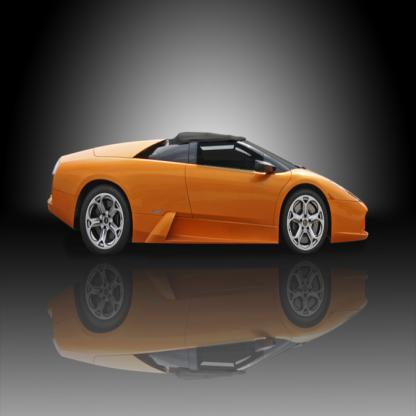Car: (48, 132, 369, 255)
